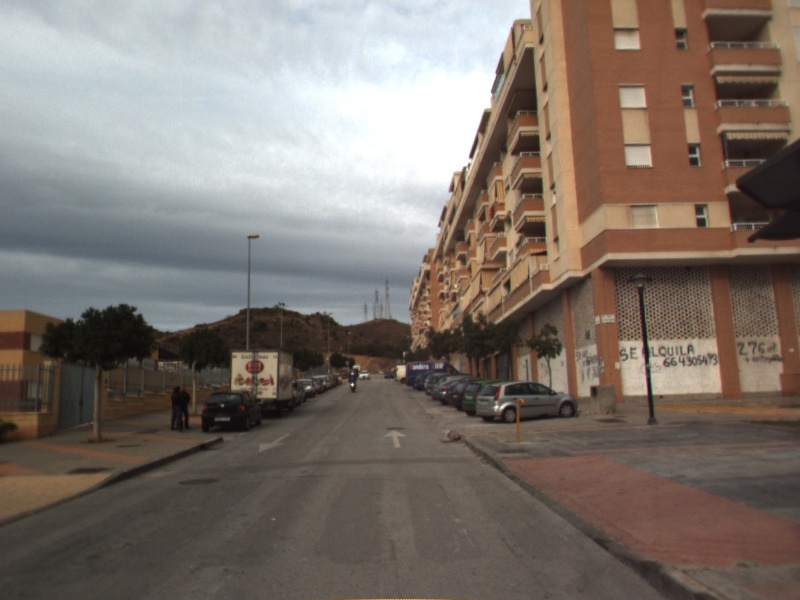STRAIGHT: (382, 427, 408, 450)
